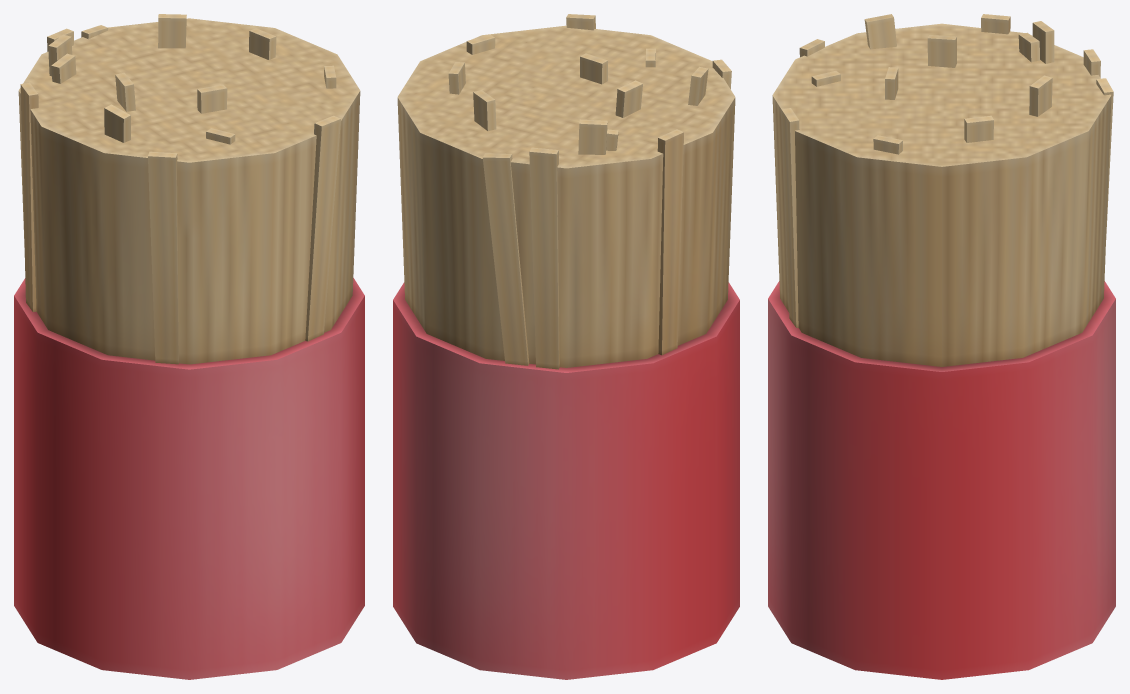
The model's file is jsf_ChopstickStand_04.fbx.
3 renders of one model, left to right at view 1: azimuth 30°, elevation 25°; view 2: azimuth 150°, elevation 25°; view 3: azimuth 270°, elevation 25°, orthographic.
Visible parts, largest first — view 1: jsf_ChopstickStand_04; view 2: jsf_ChopstickStand_04; view 3: jsf_ChopstickStand_04.
Boxes of the visible parts, x1,y1,x2,y2 form: jsf_ChopstickStand_04: [14, 14, 364, 679]; jsf_ChopstickStand_04: [393, 14, 739, 679]; jsf_ChopstickStand_04: [768, 14, 1115, 679].
Size of the model in its own units: 12.38 by 21.3 by 12.38.
